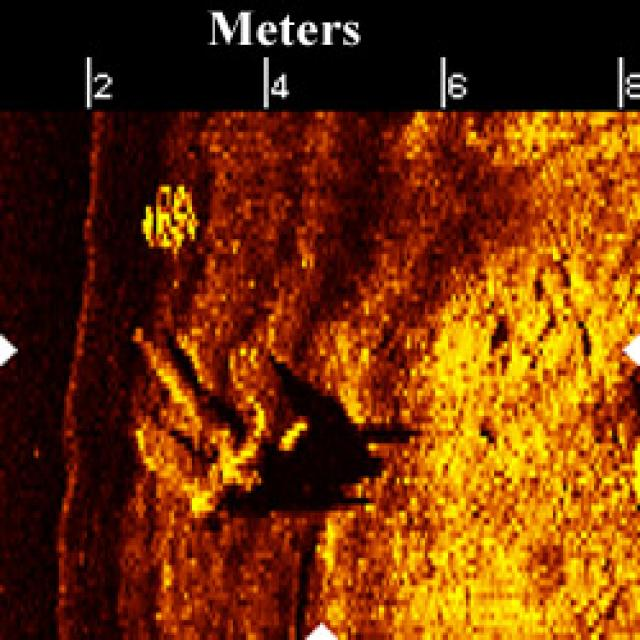other: (392, 247, 627, 620), (105, 306, 366, 530), (115, 147, 223, 266)
